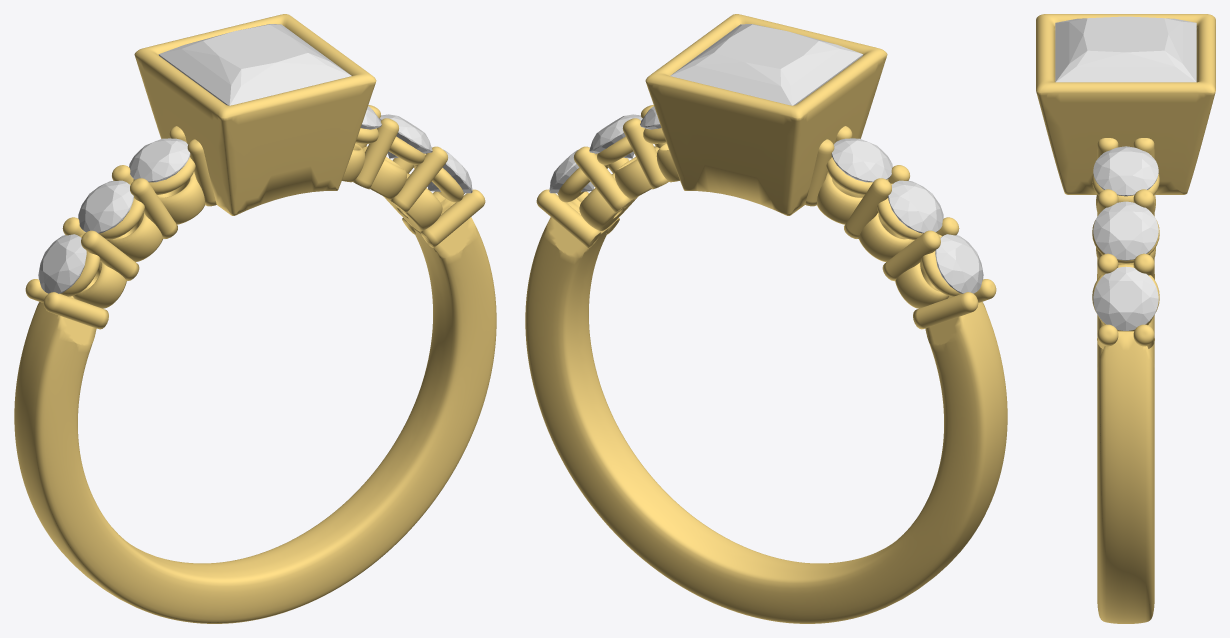
The model's file is diamond-princess-yellowgold-bezelset-straightband-7stone.glb.
3 views of the same model, side by side, from view 1: azimuth 30°, elevation 25°; view 2: azimuth 150°, elevation 25°; view 3: azimuth 270°, elevation 25° (orthographic).
Visible parts, largest first — view 1: metal, stone, side, side.001, side.002, side.004, side.005; view 2: metal, stone, side, side.001, side.002, side.004, side.005; view 3: metal, stone, side.005, side.004, side.003.
Boxes of the visible parts, x1,y1,x2,y2 form: metal: (14,14,496,623); stone: (158,24,351,105); side: (38,234,86,293); side.001: (78,180,133,233); side.002: (129,138,190,182); side.004: (379,114,432,158); side.005: (426,147,472,193); metal: (525,14,1007,623); stone: (670,24,863,105); side: (935,234,983,293); side.001: (888,180,943,233); side.002: (831,138,892,182); side.004: (589,114,642,158); side.005: (549,147,595,193); metal: (1036,14,1215,623); stone: (1055,16,1196,82); side.005: (1093,266,1158,330); side.004: (1093,201,1158,260); side.003: (1093,146,1158,196).
Size of the model in its own units: 20.51 by 23.86 by 6.89.
